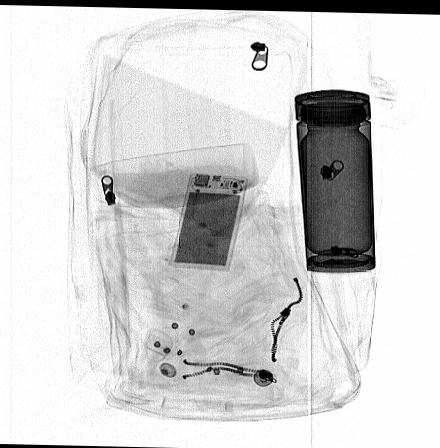Powerbank: (169, 172, 247, 270)
